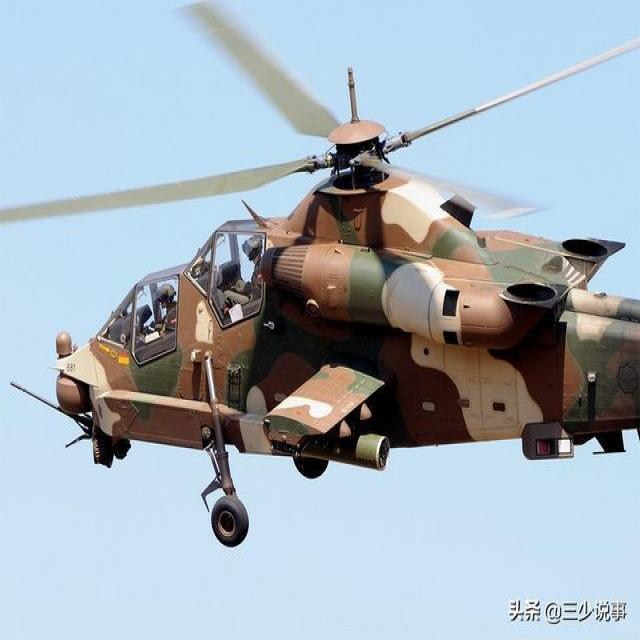MIL_HELO: (6, 0, 640, 559)
